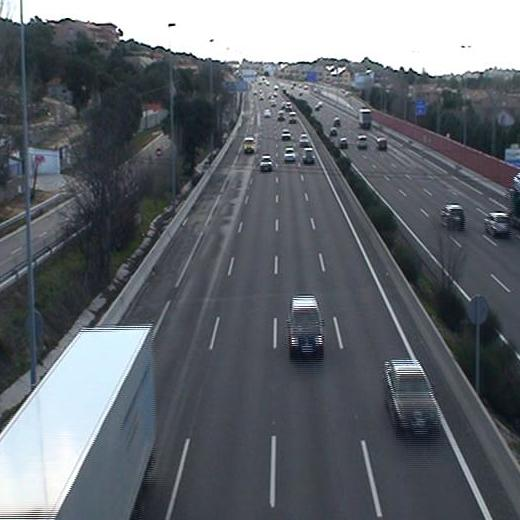car: (381, 360, 442, 435), (287, 294, 326, 359), (258, 154, 274, 172), (283, 147, 297, 163), (303, 147, 316, 164)
van: (242, 136, 257, 156)
